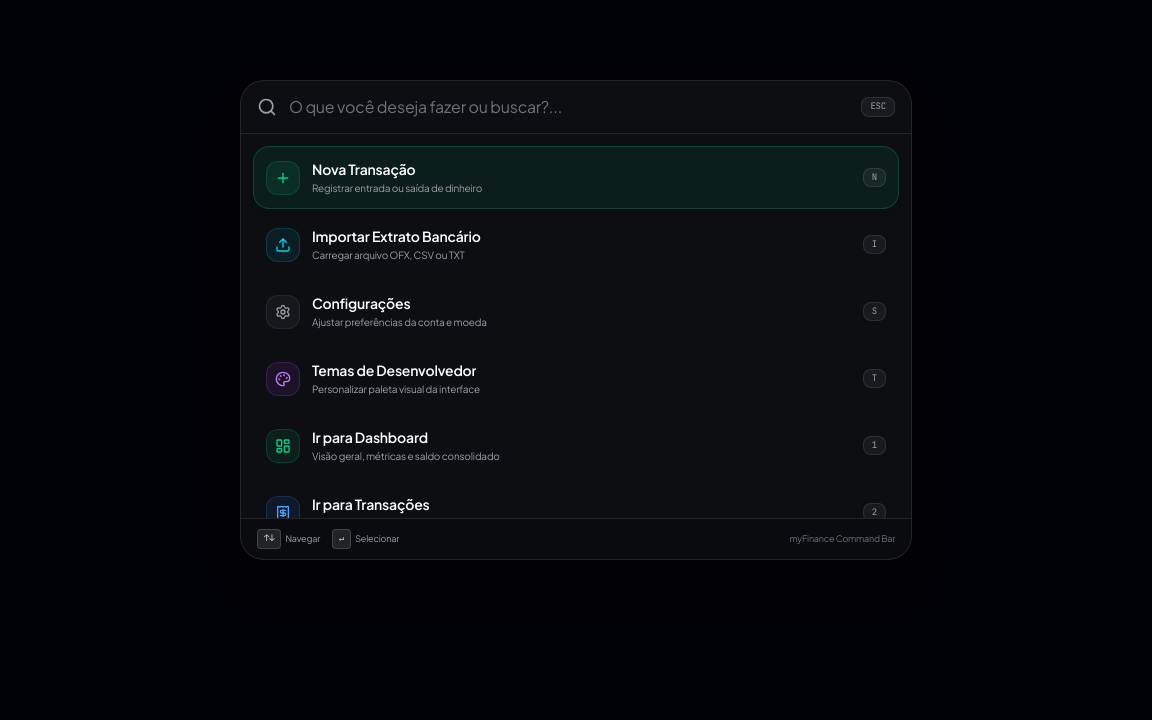
Scenario: <CommandPaletteModal /> (Paleta de Comandos Global Ctrl+K) › deve filtrar itens conforme a digitação do usuário
This screenshot has width=1152, height=720.
In the field with placeholder "O que você deseja fazer ou buscar?...": (569, 107) top-left (289, 95), bottom-right (849, 119), type "Cartões"
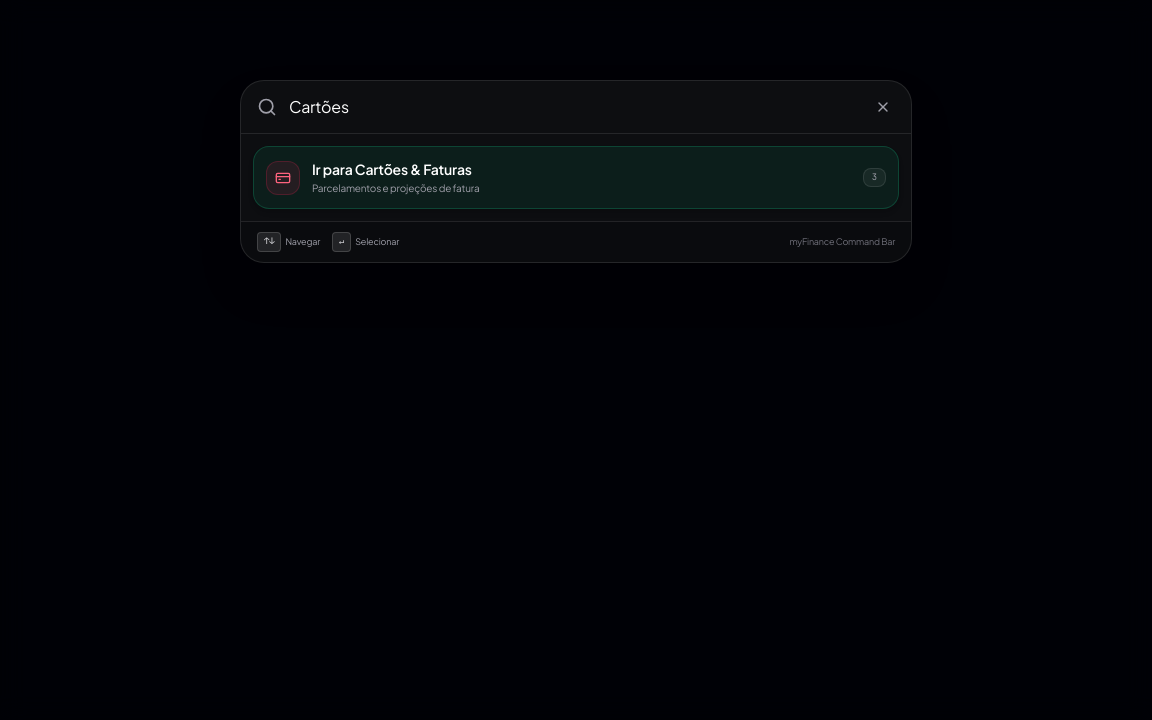
Now the text "Ir para Cartões & Faturas" is shown, box top-left (312, 159), bottom-right (472, 179)
Now the button "Ir para Dashboard" is gone
